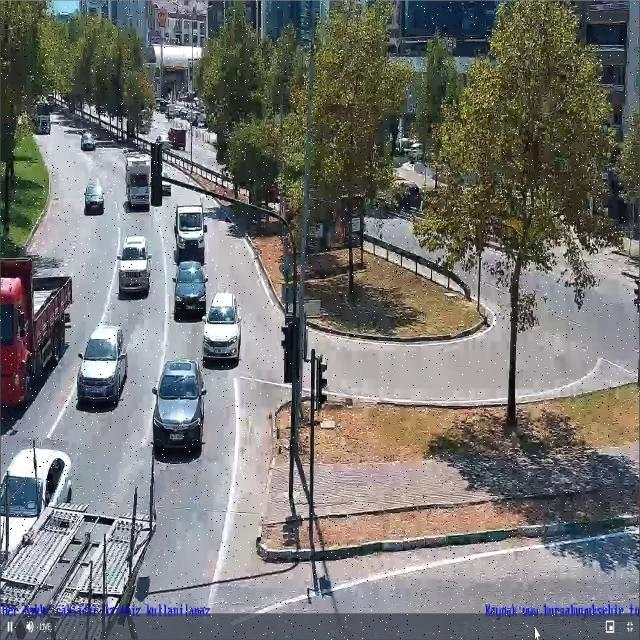Car: (149, 358, 207, 457), (76, 321, 128, 407), (202, 290, 242, 361), (115, 233, 152, 295), (170, 259, 208, 316), (84, 184, 104, 214), (80, 133, 95, 152), (175, 203, 176, 208)
Truck: (0, 258, 73, 408), (125, 153, 152, 211)
Van: (173, 199, 207, 257)
